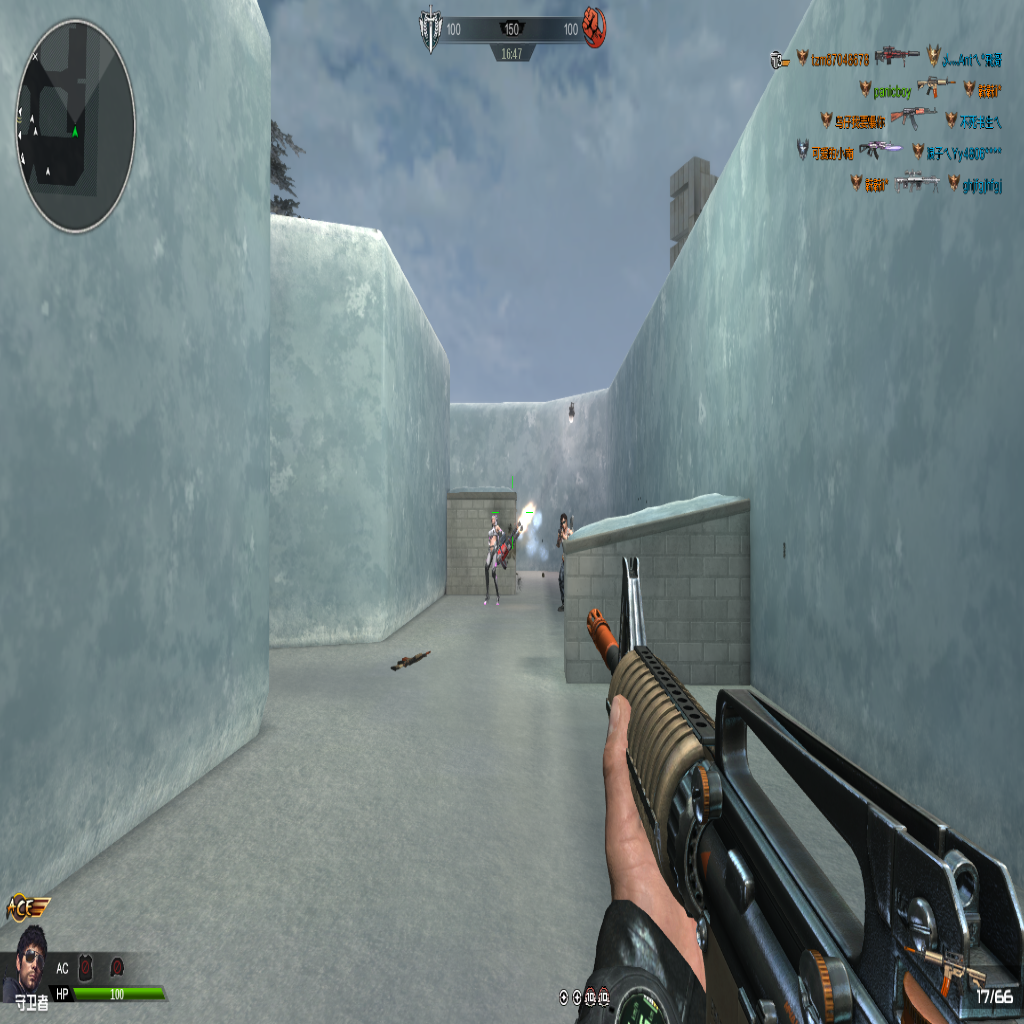tt: (556, 505, 569, 613)
